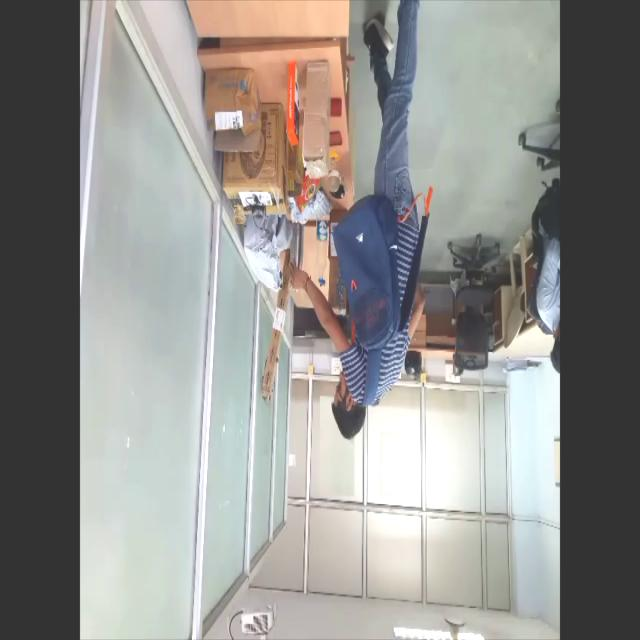normal: (291, 0, 433, 451)
